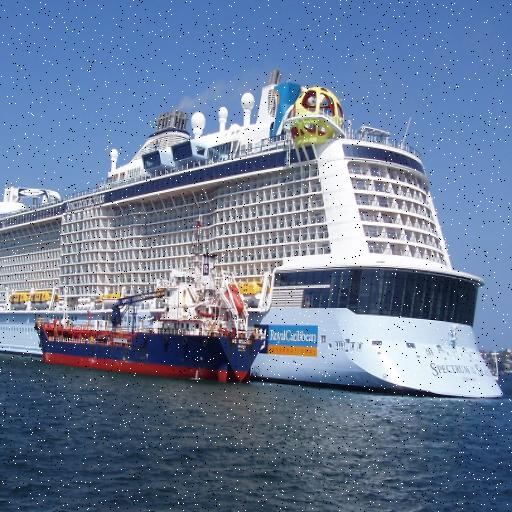cruises: (1, 68, 512, 408)
